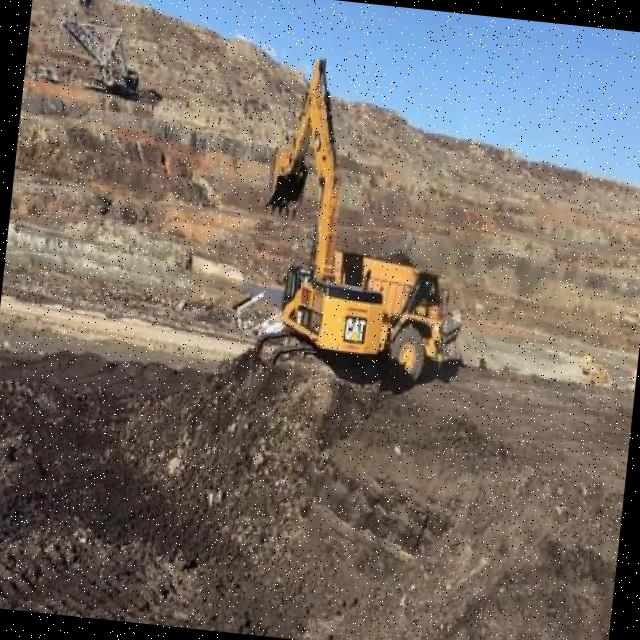Dump Truck: (326, 238, 473, 388)
Excavator: (245, 49, 416, 387)
Mobile Crane: (56, 10, 142, 99)
